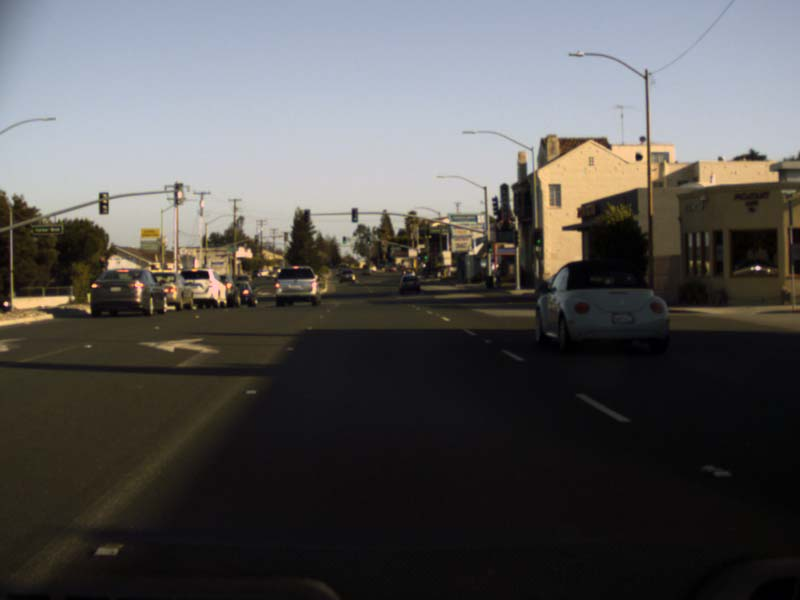Green: (532, 228, 542, 244)
